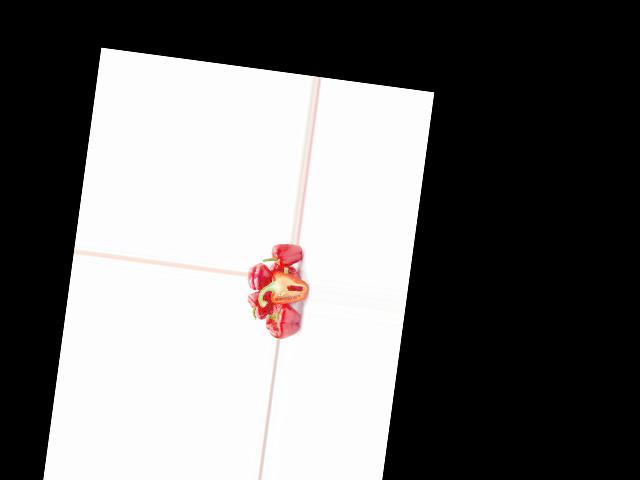bell_pepper: (244, 288, 272, 321)
